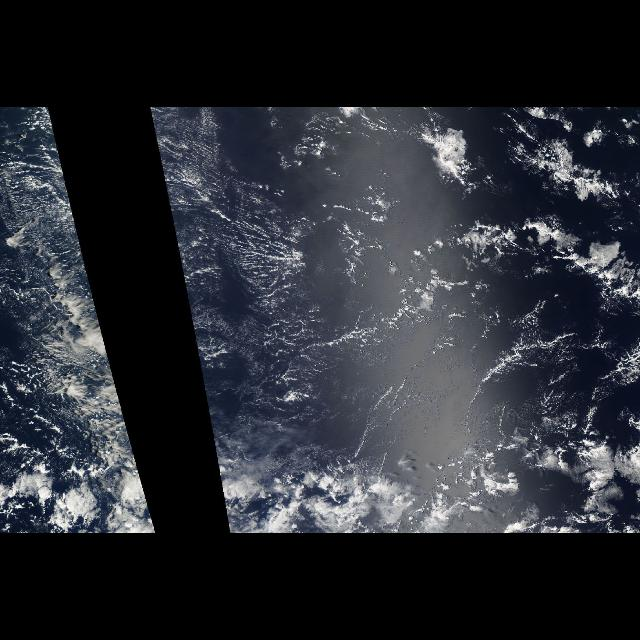Fish: (344, 168, 634, 444)
Gravel: (292, 113, 638, 301)
Sugar: (154, 110, 386, 430)
